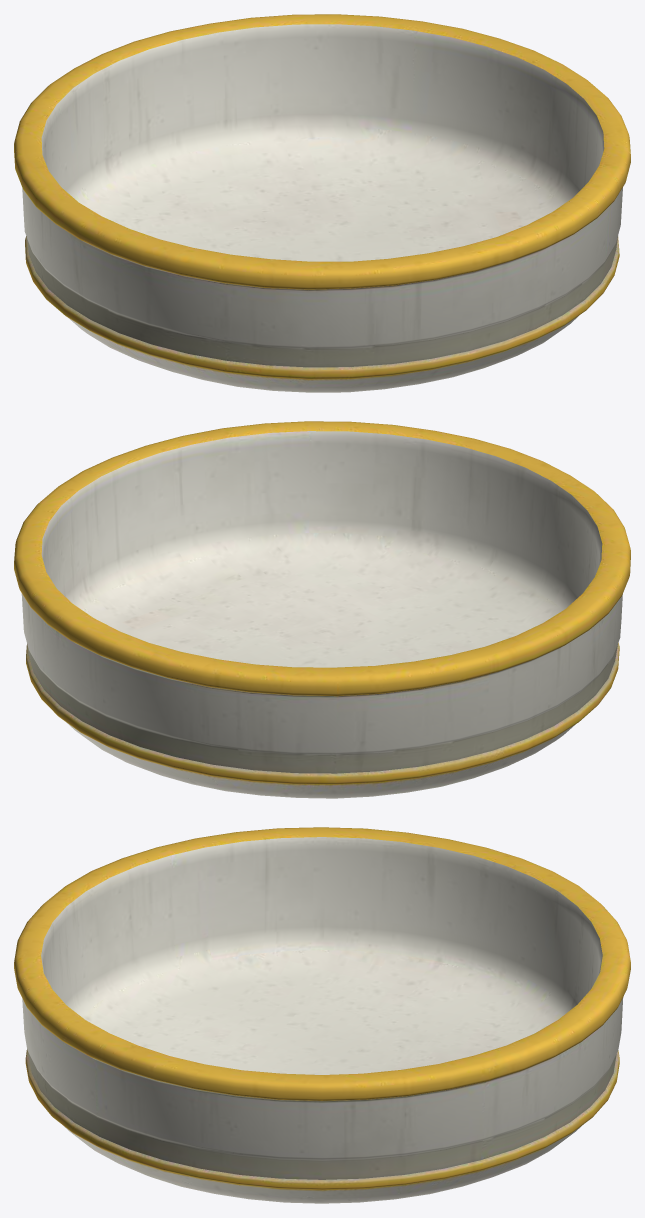
Rendered from reservoir-basin.glb.
3 views of the same model, one above another, from view 1: azimuth 30°, elevation 25°; view 2: azimuth 150°, elevation 25°; view 3: azimuth 270°, elevation 25° (orthographic).
Visible parts, largest first — view 1: basin; view 2: basin; view 3: basin.
Boxes of the visible parts, x1,y1,x2,y2 form: basin: (14,14,630,392); basin: (14,421,630,798); basin: (14,827,630,1203).
Size of the model in its own units: 1.9 by 0.5389 by 1.9.
4 materials, 4 textured.
